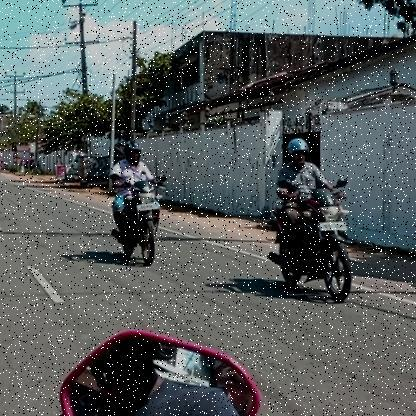motorcycle: (264, 187, 356, 303), (110, 179, 168, 269)
